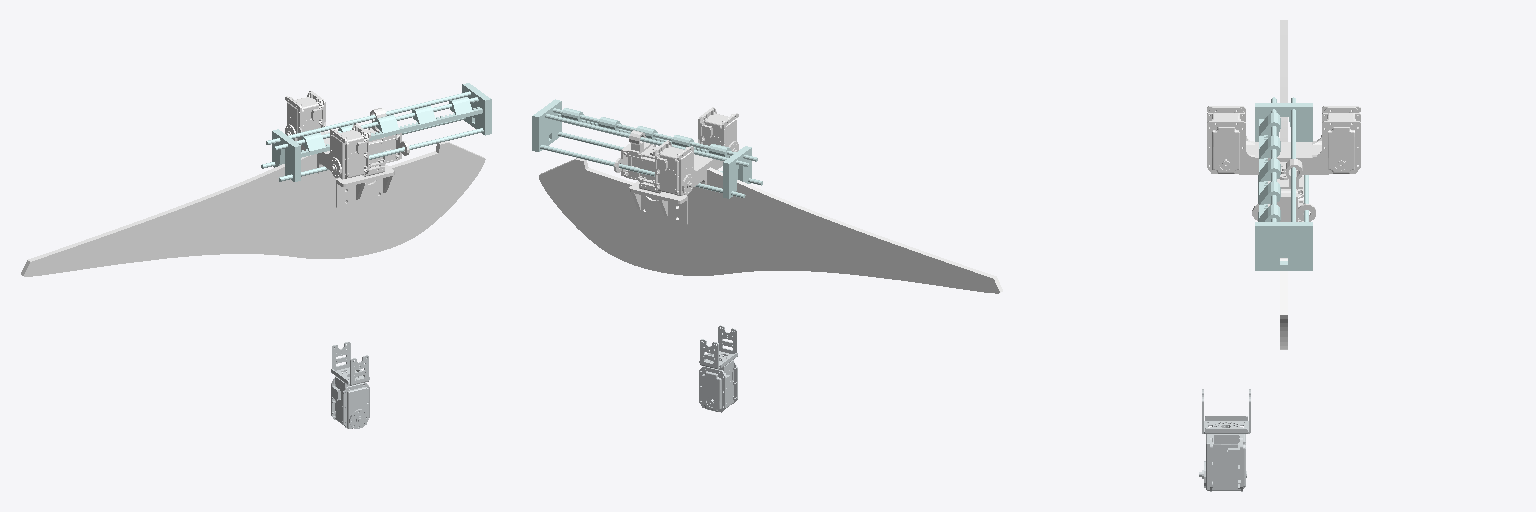
URDF robot description (teropobot_full):
<?xml version="1.0" encoding="utf-8"?>
<!-- This URDF was automatically created by SolidWorks to URDF Exporter! Originally created by [author] ([email redacted]) 
     Commit Version: 1.5.1-0-g916b5db  Build Version: 1.5.7152.31018
     For more information, please see http://wiki.ros.org/sw_urdf_exporter -->
<robot
  name="teropobot_full">
  <link
    name="base_link">
    <inertial>
      <origin
        xyz="0.0416478669573349 -0.00403385726528455 0.0434515211828225"
        rpy="0 0 0" />
      <mass
        value="1.41078792734414" />
      <inertia
        ixx="0.00111400506764418"
        ixy="-4.51157828478083E-10"
        ixz="0.00121758791262258"
        iyy="0.0198527111329821"
        iyz="3.85963214463603E-11"
        izz="0.0190033666741306" />
    </inertial>
    <visual>
      <origin
        xyz="0 0 0"
        rpy="0 0 0" />
      <geometry>
        <mesh
          filename="package://teropobot_full/meshes/base_link.stl" />
      </geometry>
      <material
        name="">
        <color
          rgba="1 1 1 1" />
      </material>
    </visual>
    <collision>
      <origin
        xyz="0 0 0"
        rpy="0 0 0" />
      <geometry>
        <mesh
          filename="package://teropobot_full/meshes/base_link.stl" />
      </geometry>
    </collision>
  </link>
  <link
    name="r_1">
    <inertial>
      <origin
        xyz="-0.0220000063965398 -0.0002848394407447 -0.0489971782635417"
        rpy="0 0 0" />
      <mass
        value="0.247997823174623" />
      <inertia
        ixx="0.000101205620160074"
        ixy="-2.73198286691885E-11"
        ixz="3.85091254605903E-11"
        iyy="8.36561290864557E-05"
        iyz="-2.42574814154466E-06"
        izz="5.209360840728E-05" />
    </inertial>
    <visual>
      <origin
        xyz="-0.079 0.064 -0.1385"
        rpy="0 0 0" />
      <geometry>
        <mesh
          filename="package://teropobot_full/meshes/r_1.stl" />
      </geometry>
      <material
        name="">
        <color
          rgba="0.8 0.8 0.8 1" />
      </material>
    </visual>
    <collision>
      <origin
        xyz="-0.079 0.064 -0.1385"
        rpy="0 0 0" />
      <geometry>
        <mesh
          filename="package://teropobot_full/meshes/r_1.stl" />
      </geometry>
    </collision>
  </link>
  <joint
    name="r_j1"
    type="revolute">
    <origin
      xyz="0.078905 -0.064 0.13862"
      rpy="0 0 0" />
    <parent
      link="base_link" />
    <child
      link="r_1" />
    <axis
      xyz="1 0 0" />
    <limit
      lower="-0.2"
      upper="0.11"
      effort="100"
      velocity="10" />
  </joint>
  <link
    name="r_2">
    <inertial>
      <origin
        xyz="-1.21365923977379E-08 0.028 -0.0625000000000697"
        rpy="0 0 0" />
      <mass
        value="0.0422410024350713" />
      <inertia
        ixx="7.18043736115381E-05"
        ixy="3.05679866666057E-22"
        ixz="-3.24989272640482E-20"
        iyy="7.45445707922695E-05"
        iyz="1.97499821970278E-20"
        izz="2.76835784902139E-06" />
    </inertial>
    <visual>
      <origin
        xyz="-0.061 0.092 -0.1055"
        rpy="0 0 0" />
      <geometry>
        <mesh
          filename="package://teropobot_full/meshes/r_2.stl" />
      </geometry>
      <material
        name="">
        <color
          rgba="0.2 0.2 0.2 1" />
      </material>
    </visual>
    <collision>
      <origin
        xyz="-0.061 0.092 -0.1055"
        rpy="0 0 0" />
      <geometry>
        <mesh
          filename="package://teropobot_full/meshes/r_2.stl" />
      </geometry>
    </collision>
  </link>
  <joint
    name="r_j2"
    type="revolute">
    <origin
      xyz="-0.018 -0.028 -0.033"
      rpy="0 0 0" />
    <parent
      link="r_1" />
    <child
      link="r_2" />
    <axis
      xyz="0 1 0" />
    <limit
      lower="-1.57"
      upper="1.57"
      effort="100"
      velocity="10" />
  </joint>
  <link
    name="r_3">
    <inertial>
      <origin
        xyz="-4.76214996325552E-08 0.0276633766737961 -0.0595000000000009"
        rpy="0 0 0" />
      <mass
        value="0.419694987008977" />
      <inertia
        ixx="0.000191800779214511"
        ixy="-8.73001429301117E-20"
        ixz="7.70182498839553E-11"
        iyy="0.000172575599835482"
        iyz="6.5485934829039E-20"
        izz="9.81203758622348E-05" />
    </inertial>
    <visual>
      <origin
        xyz="-0.061 0.092 0.0195"
        rpy="0 0 0" />
      <geometry>
        <mesh
          filename="package://teropobot_full/meshes/r_3.stl" />
      </geometry>
      <material
        name="">
        <color
          rgba="0.6 0.6 0.6 1" />
      </material>
    </visual>
    <collision>
      <origin
        xyz="-0.061 0.092 0.0195"
        rpy="0 0 0" />
      <geometry>
        <mesh
          filename="package://teropobot_full/meshes/r_3.stl" />
      </geometry>
    </collision>
  </link>
  <joint
    name="r_j3"
    type="revolute">
    <origin
      xyz="0 0 -0.125"
      rpy="0 0 0" />
    <parent
      link="r_2" />
    <child
      link="r_3" />
    <axis
      xyz="0 1 0" />
    <limit
      lower="-1.57"
      upper="0.2"
      effort="100"
      velocity="10" />
  </joint>
  <link
    name="r_4">
    <inertial>
      <origin
        xyz="7.32872484920932E-09 0.0278766423184327 -0.0690622085159465"
        rpy="0 0 0" />
      <mass
        value="0.21645345011941" />
      <inertia
        ixx="8.97348590279341E-05"
        ixy="-2.73182759123709E-11"
        ixz="-3.85091254427449E-11"
        iyy="7.15543482167347E-05"
        iyz="2.42574814154452E-06"
        izz="5.50402868503364E-05" />
    </inertial>
    <visual>
      <origin
        xyz="-0.061 0.092 0.1385"
        rpy="0 0 0" />
      <geometry>
        <mesh
          filename="package://teropobot_full/meshes/r_4.stl" />
      </geometry>
      <material
        name="">
        <color
          rgba="0.898039215686275 0.917647058823529 0.929411764705882 1" />
      </material>
    </visual>
    <collision>
      <origin
        xyz="-0.057 0.092 0.1685"
        rpy="0 0 0" />
      <geometry>
        <mesh
          filename="package://teropobot_full/meshes/r_4.stl" />
      </geometry>
    </collision>
  </link>
  <joint
    name="r_j4"
    type="revolute">
    <origin
      xyz="0 0 -0.119"
      rpy="0 0 0" />
    <parent
      link="r_3" />
    <child
      link="r_4" />
    <axis
      xyz="0 1 0" />
    <limit
      lower="-1.57"
      upper="0.64"
      effort="100"
      velocity="10" />
  </joint>
  <link
    name="r_5">
    <inertial>
      <origin
        xyz="0.0272000605607781 -0.0101407612836425 0.0367210679469446"
        rpy="0 0 0" />
      <mass
        value="0.0778843023583795" />
      <inertia
        ixx="3.49434622141053E-05"
        ixy="-4.61961003180269E-11"
        ixz="-7.94426883548982E-11"
        iyy="8.92066933457862E-05"
        iyz="7.7658400474191E-07"
        izz="6.0545888001123E-05" />
    </inertial>
    <visual>
      <origin
        xyz="-0.061 0.0925 0.227"
        rpy="0 0 0" />
      <geometry>
        <mesh
          filename="package://teropobot_full/meshes/r_5.stl" />
      </geometry>
      <material
        name="">
        <color
          rgba="0.5 0.5 0.5 1" />
      </material>
    </visual>
    <collision>
      <origin
        xyz="-0.057 0.0925 0.257"
        rpy="0 0 0" />
      <geometry>
        <mesh
          filename="package://teropobot_full/meshes/r_5.stl" />
      </geometry>
    </collision>
  </link>
  <joint
    name="r_j5"
    type="revolute">
    <origin
      xyz="0 0 -0.0888"
      rpy="0 0 0" />
    <parent
      link="r_4" />
    <child
      link="r_5" />
    <axis
      xyz="0 1 0" />
    <limit
      lower="-0.5"
      upper="1"
      effort="100"
      velocity="10" />
  </joint>
  <link
    name="s_0">
    <inertial>
      <origin
        xyz="-0.021524149927319 -0.0265338780334946 0.0230978429274059"
        rpy="0 0 0" />
      <mass
        value="0.187634452845745" />
      <inertia
        ixx="3.29205933630442E-05"
        ixy="-6.9557189946925E-17"
        ixz="3.53060374200377E-10"
        iyy="0.00107682704483616"
        iyz="-1.07029400464651E-06"
        izz="0.00108318872584713" />
    </inertial>
    <visual>
      <origin
        xyz="0 0 0.003"
        rpy="0 0 0" />
      <geometry>
        <mesh
          filename="package://teropobot_full/meshes/s_0.stl" />
      </geometry>
      <material
        name="">
        <color
          rgba="0.9 1 1 1" />
      </material>
    </visual>
    <collision>
      <origin
        xyz="0 0 0.003"
        rpy="0 0 0" />
      <geometry>
        <mesh
          filename="package://teropobot_full/meshes/s_0.stl" />
      </geometry>
    </collision>
  </link>
  <joint
    name="s_j0"
    type="prismatic">
    <origin
      xyz="0.1634 0.0195 0.118455"
      rpy="0 0 0" />
    <parent
      link="base_link" />
    <child
      link="s_0" />
    <axis
      xyz="1 0 0" />
    <limit
      lower="-0.1"
      upper="0.1"
      effort="10"
      velocity="10" />
  </joint>
</robot>

--- Facts derived from the render (not from the file) ---
3 views of the same robot in one strip: view 1: azimuth 30°, elevation 25°; view 2: azimuth 150°, elevation 25°; view 3: azimuth 270°, elevation 25° (orthographic).
Robot: teropobot_full — 7 links, 6 joints (5 revolute, 1 prismatic); root link base_link; default pose: all joints at 0.
Links seen in each view (by area): view 1: base_link, s_0, r_4; view 2: base_link, s_0, r_4; view 3: base_link, s_0, r_4.
Link boxes in pixels (<box>): base_link: <box>21,91,485,276</box>; s_0: <box>261,83,491,181</box>; r_4: <box>331,342,369,428</box>; base_link: <box>539,107,1002,293</box>; s_0: <box>532,99,762,198</box>; r_4: <box>699,325,737,412</box>; base_link: <box>1207,20,1360,349</box>; s_0: <box>1255,97,1312,270</box>; r_4: <box>1199,389,1250,491</box>.
Size in the robot's own frame: 0.7105 by 0.1679 by 0.4278 metres.
Meshes: 7 distinct files referenced, 3 mesh visuals loaded (3 binary STL); not drawn: 4 (reference not matched to a file when rendering).